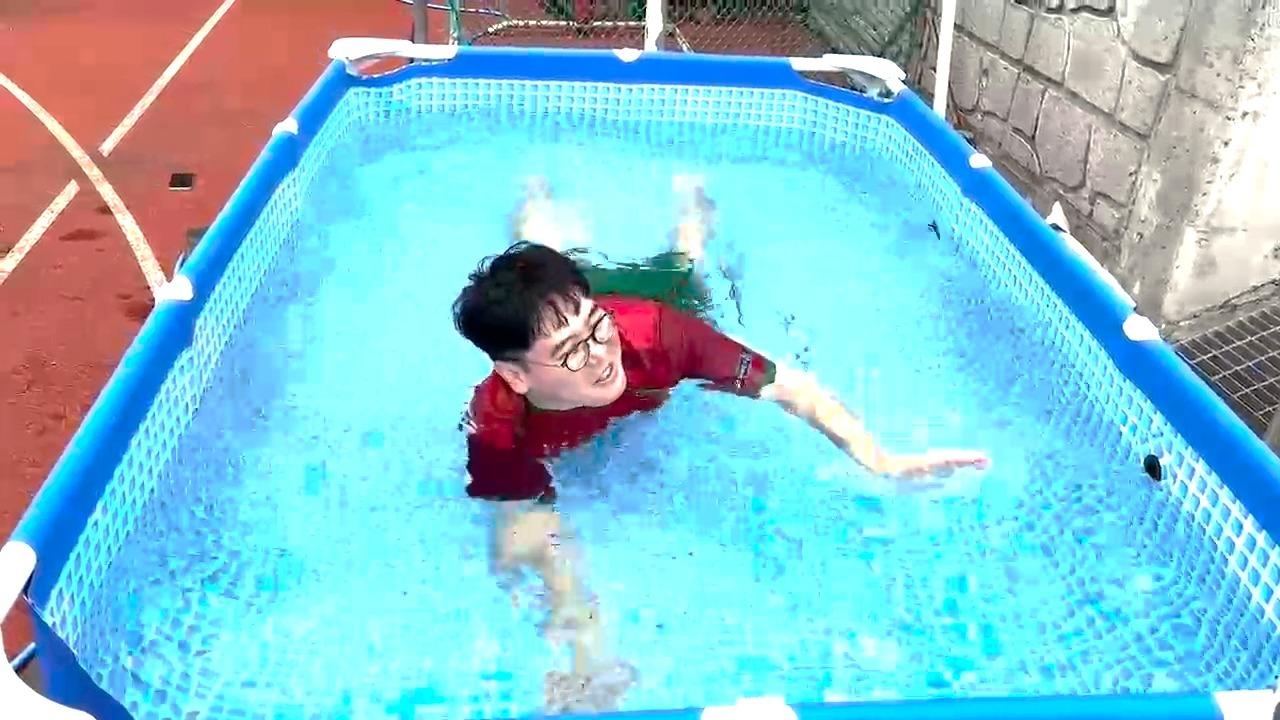Swimming: (426, 127, 989, 672)
